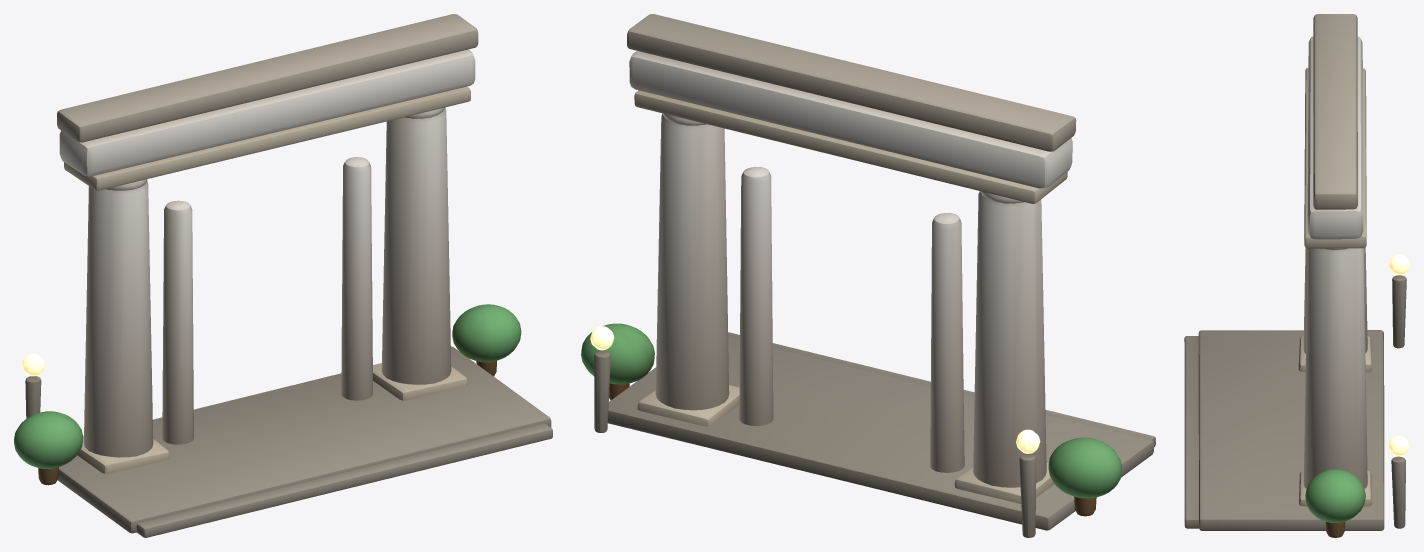
The picture shows the model from 3 angles, left to right: view 1: azimuth 30°, elevation 25°; view 2: azimuth 150°, elevation 25°; view 3: azimuth 270°, elevation 25°; orthographic projection. The views are drawn at different scales.
Visible parts, largest first — view 1: gate_3cdbe8e2; view 2: gate_3cdbe8e2; view 3: gate_3cdbe8e2.
Part boxes in pixels (<box>): gate_3cdbe8e2: <box>14,14,552,537</box>; gate_3cdbe8e2: <box>581,14,1155,537</box>; gate_3cdbe8e2: <box>1184,14,1409,537</box>.
Size of the model in its own units: 6.06 by 4.18 by 2.55.
